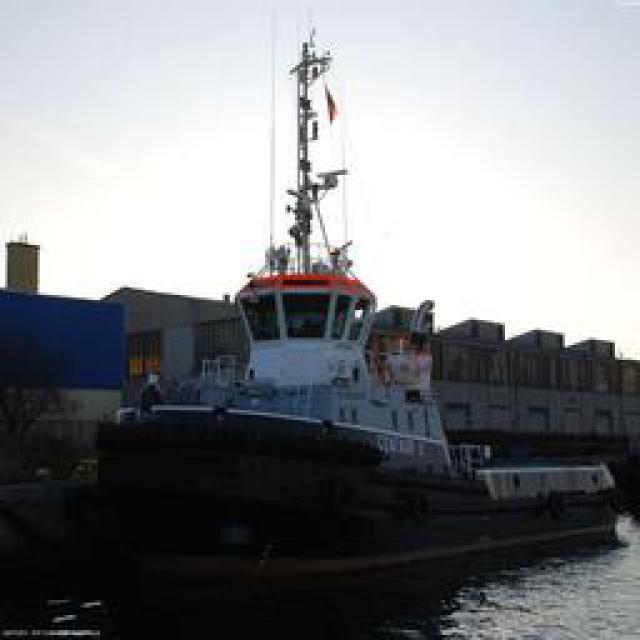Ship: (106, 1, 571, 561)
